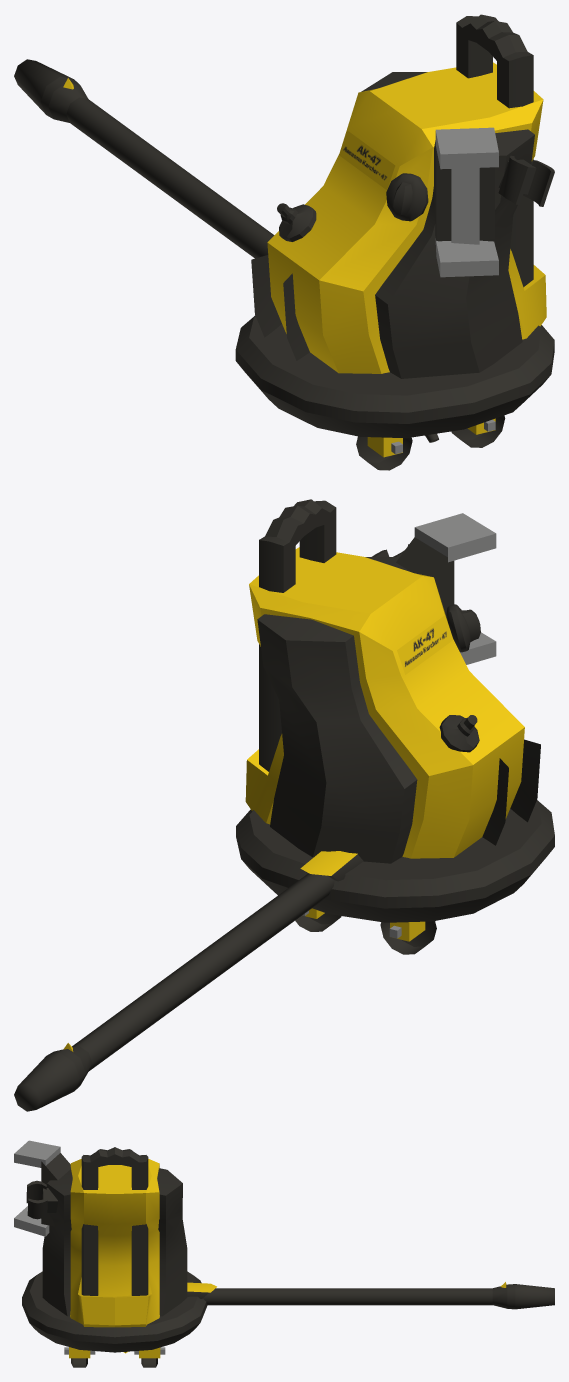
The model's file is AwesomeKarcher47.fbx.
3 renders of one model, top to bottom at view 1: azimuth 30°, elevation 25°; view 2: azimuth 150°, elevation 25°; view 3: azimuth 270°, elevation 25°, orthographic. The views are drawn at different scales.
Parts seen in each view (by area): view 1: Base, BaseRoll, AddSide, AKPistol, Rootsyst, Handl, Add, Grip, Int, Roll, Toma, Roll3; view 2: Base, AddSide, BaseRoll, AKPistol, Handl, Rootsyst, Add, Roll1, Toma, Int; view 3: Base, AddSide, AKPistol, BaseRoll, Handl, Rootsyst, Grip, Roll3, Roll2.
Boxes of the visible parts, box(x1,y1,x2,y2) form: Base: box(267, 62, 546, 373); BaseRoll: box(235, 315, 554, 438); AddSide: box(361, 72, 534, 378); AKPistol: box(14, 59, 438, 442); Rootsyst: box(435, 127, 498, 277); Handl: box(456, 14, 533, 287); Add: box(251, 255, 309, 360); Grip: box(498, 155, 554, 206); Int: box(386, 173, 428, 221); Roll: box(356, 436, 412, 470); Toma: box(277, 203, 316, 241); Roll3: box(451, 415, 505, 447); Base: box(245, 537, 524, 858); AddSide: box(257, 557, 417, 863); BaseRoll: box(236, 800, 554, 922); AKPistol: box(14, 851, 363, 1111); Handl: box(259, 499, 336, 771); Rootsyst: box(414, 513, 496, 664); Add: box(482, 739, 540, 845); Roll1: box(380, 921, 436, 954); Toma: box(439, 715, 479, 752); Int: box(446, 604, 480, 652); Base: box(41, 1153, 159, 1327); AddSide: box(42, 1168, 187, 1316); AKPistol: box(123, 1282, 554, 1353); BaseRoll: box(22, 1271, 207, 1352); Handl: box(81, 1147, 148, 1295); Rootsyst: box(14, 1140, 60, 1236); Grip: box(26, 1180, 57, 1219); Roll3: box(64, 1347, 95, 1367); Roll2: box(134, 1347, 165, 1367).
Size of the model in its own units: 3.15 by 4.34 by 9.16.
